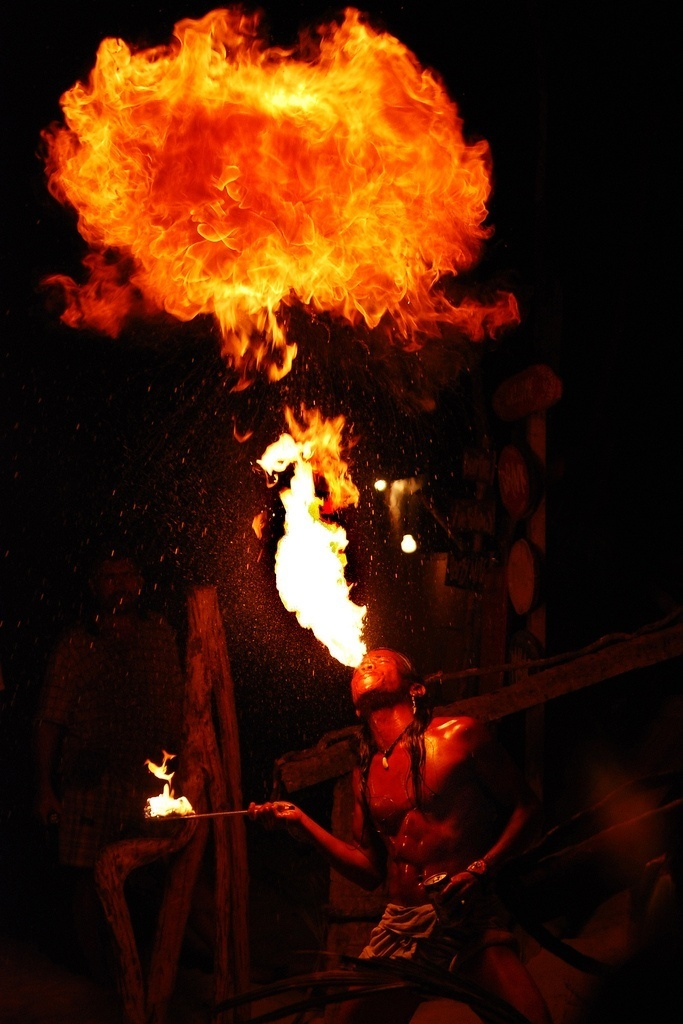fire: (39, 0, 500, 386), (243, 409, 375, 681), (140, 748, 195, 822)
